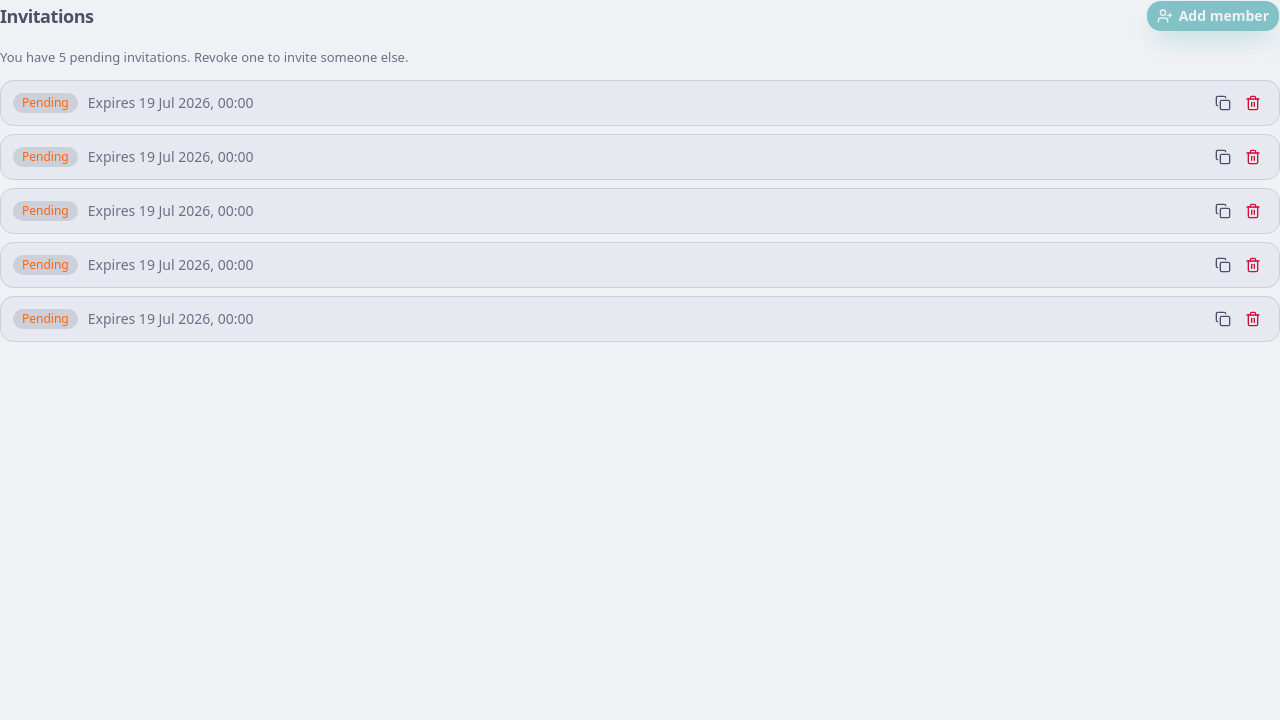
Test: HouseholdInvitations › disables Add member at 5 live-pending and re-enables after a revoke
Expected: the button "Add member" is disabled, [1146,0,1279,32]
Click the 1st button named "Revoke" at point(1253, 102), box [1239,88,1267,116]
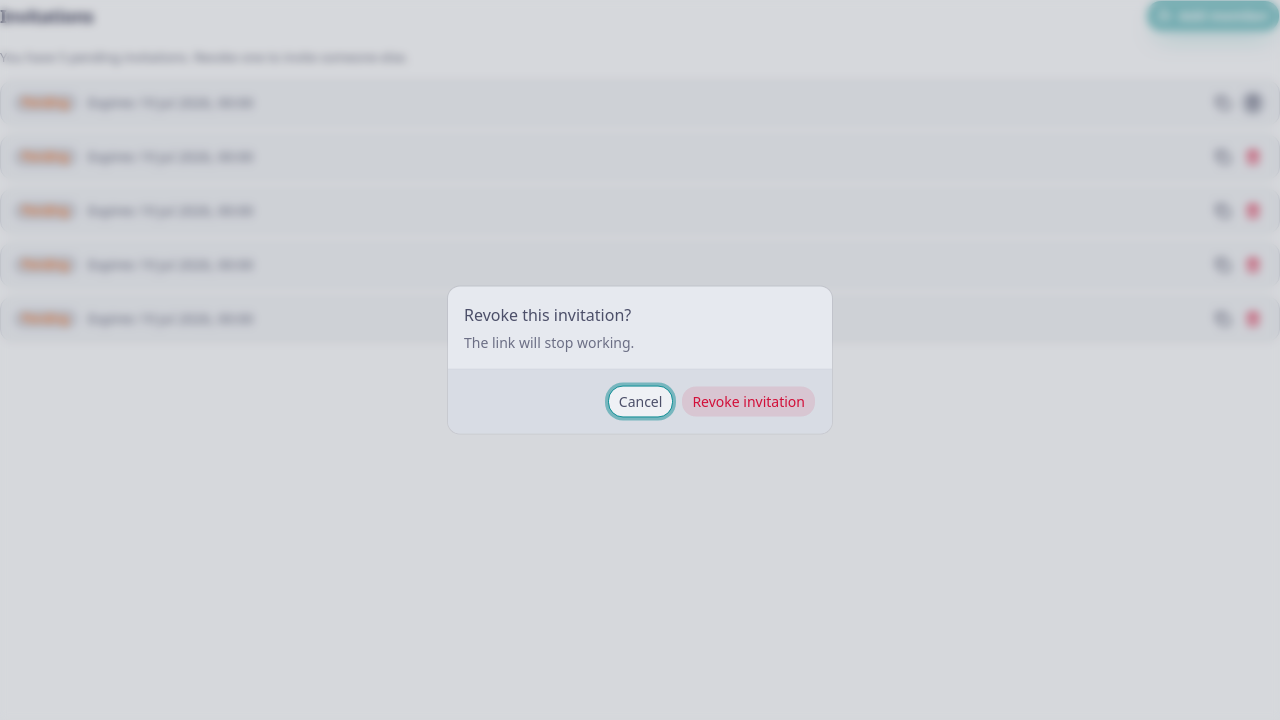
Click the button "Revoke invitation" at point(749, 402), box [681,386,816,418]
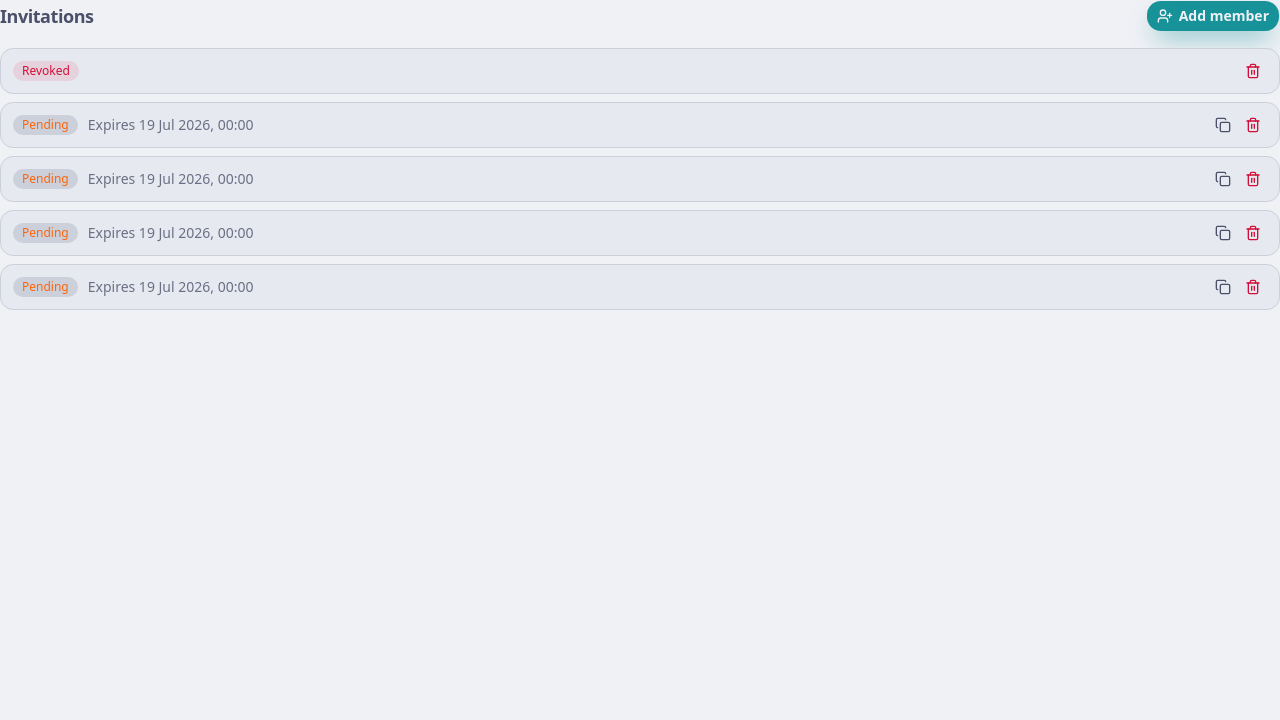
Expected: the button "Add member" is enabled, [1146,0,1279,32]
